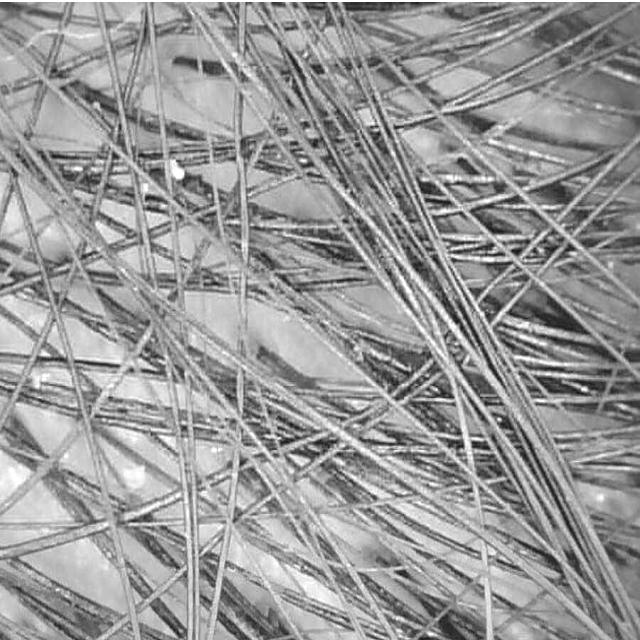d: (120, 462, 148, 493), (170, 160, 185, 180)
